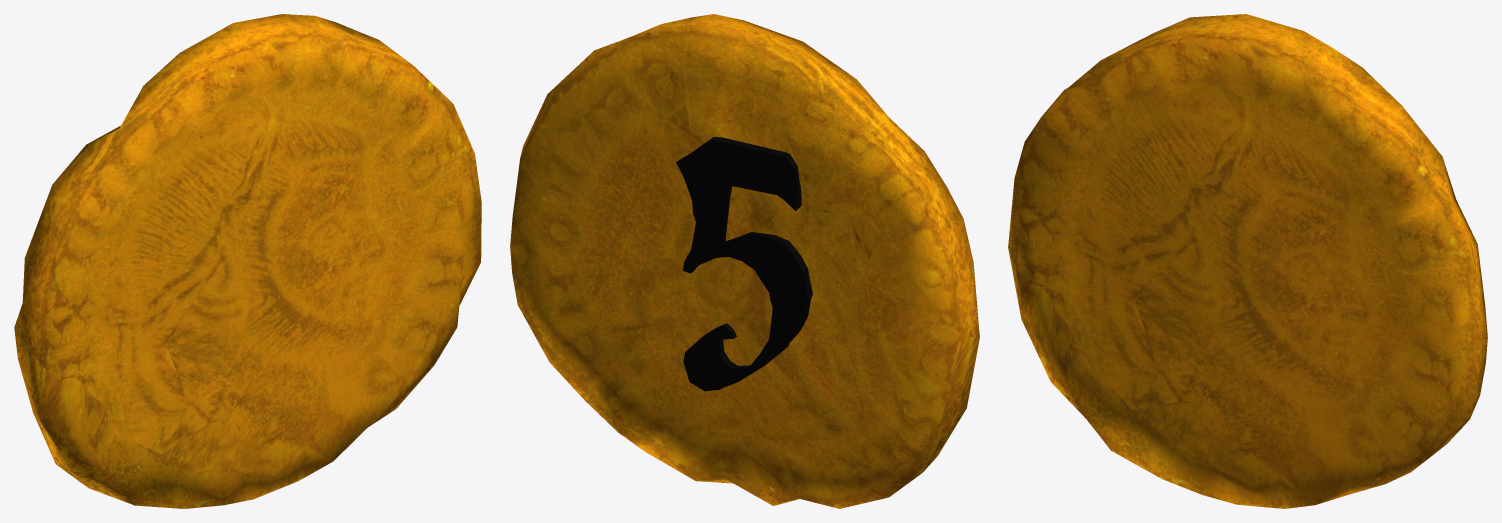
Rendered from coin_5_new.fbx.
The picture shows the model from 3 angles, left to right: view 1: azimuth 30°, elevation 25°; view 2: azimuth 150°, elevation 25°; view 3: azimuth 330°, elevation 25°; orthographic projection. The views are drawn at different scales.
Parts seen in each view (by area): view 1: 5 COIN NEW; view 2: 5 COIN NEW; view 3: 5 COIN NEW.
Boxes of the visible parts, x1,y1,x2,y2 form: 5 COIN NEW: (14,14,481,508); 5 COIN NEW: (510,14,979,508); 5 COIN NEW: (1008,14,1487,508).
Size of the model in its own units: 14.82 by 124 by 121.
Materials: 2 (1 with a texture image).
